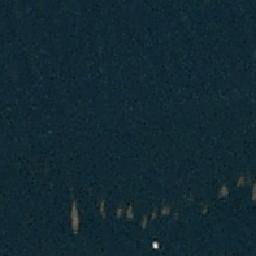debris: (70, 202, 78, 232), (97, 200, 105, 219), (237, 176, 250, 185), (114, 207, 122, 218), (127, 204, 133, 217), (141, 216, 148, 227), (220, 187, 227, 198), (161, 207, 170, 215), (201, 206, 209, 214), (252, 184, 256, 198), (151, 211, 156, 218)
